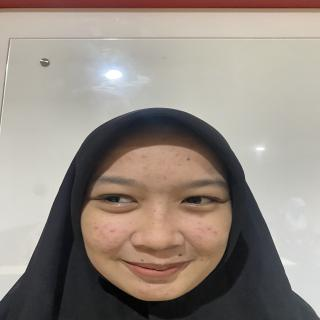Senang: (78, 113, 240, 305)
